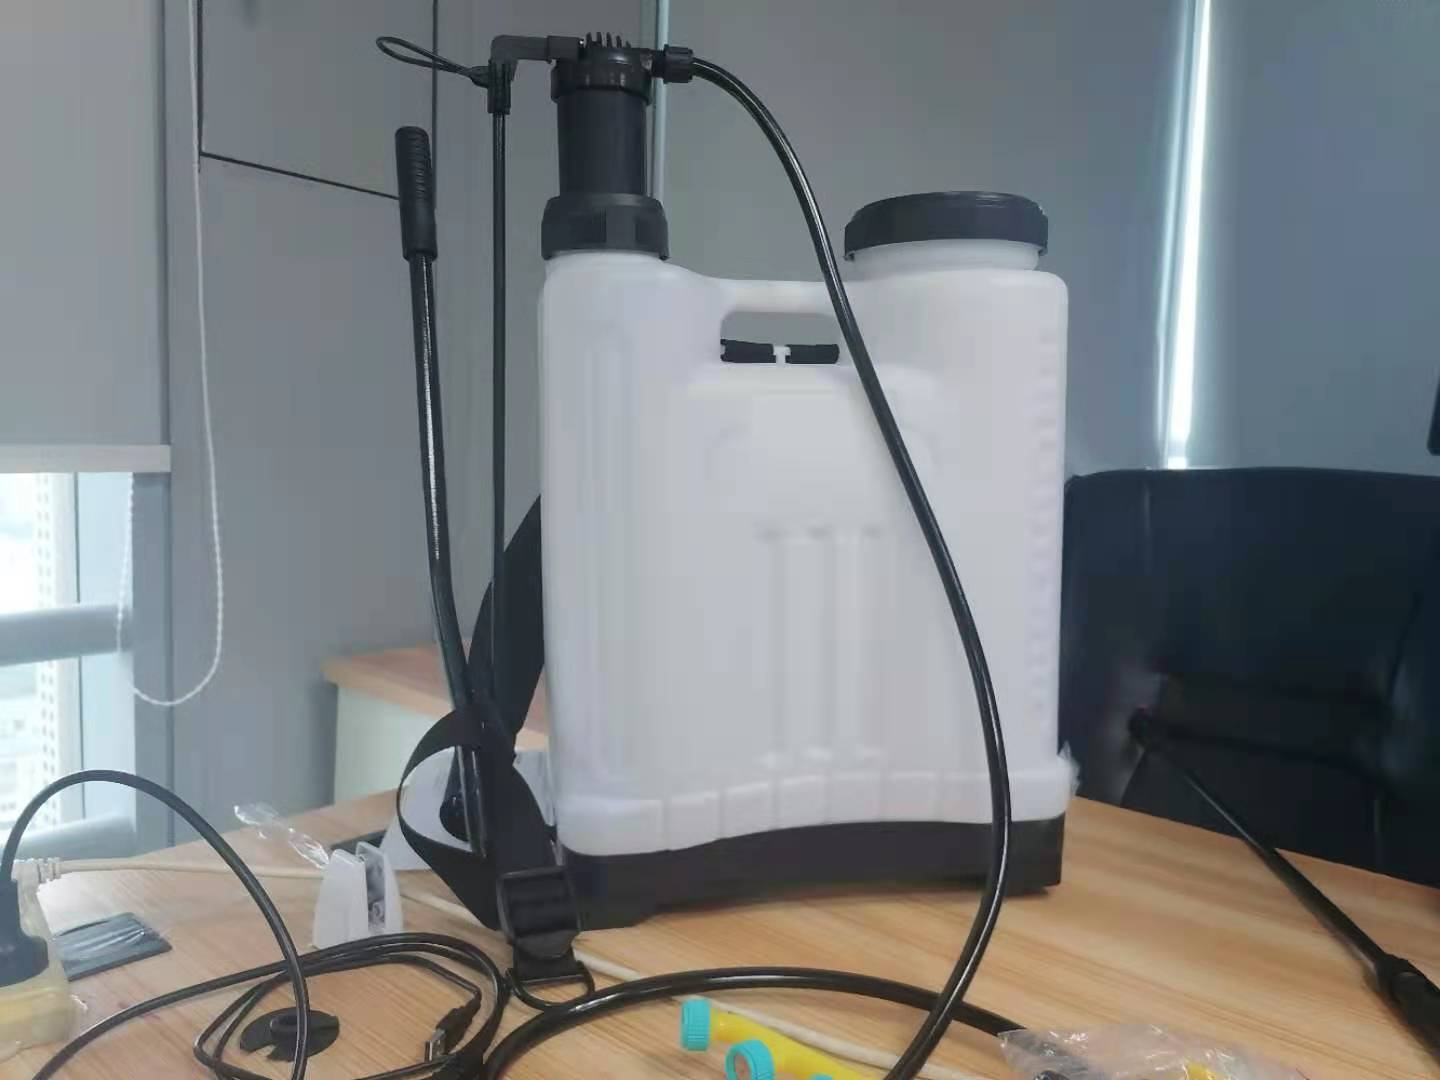berrl: (480, 25, 1086, 928)
